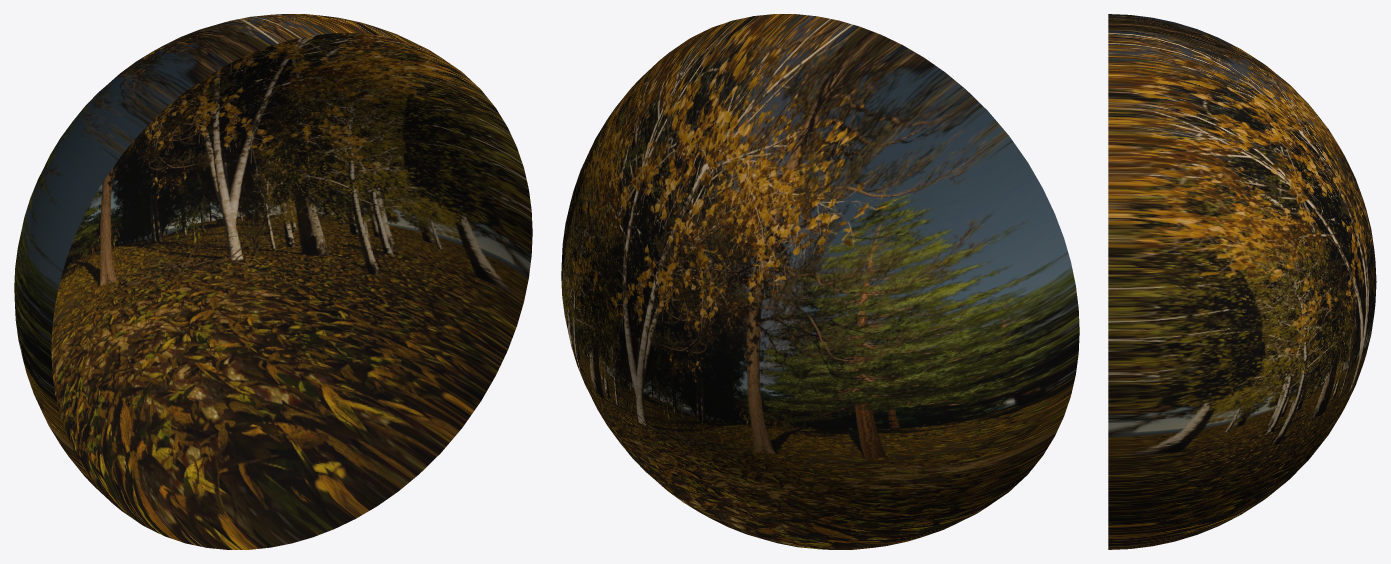
Rendered from Trickster-Erratic-left-enviroment.glb.
The picture shows the model from 3 angles, left to right: view 1: azimuth 30°, elevation 25°; view 2: azimuth 150°, elevation 25°; view 3: azimuth 270°, elevation 25°; orthographic projection. The views are drawn at different scales.
Visible parts, largest first — view 1: Roundcube.001; view 2: Roundcube.001; view 3: Roundcube.001.
Boxes of the visible parts, box(x1,y1,x2,y2) form: Roundcube.001: box(14, 14, 532, 549); Roundcube.001: box(561, 14, 1079, 549); Roundcube.001: box(1108, 14, 1376, 549).
Bounding box in the file's own units: 1.96 × 1.96 × 0.9823.
1 material, 1 textured.
